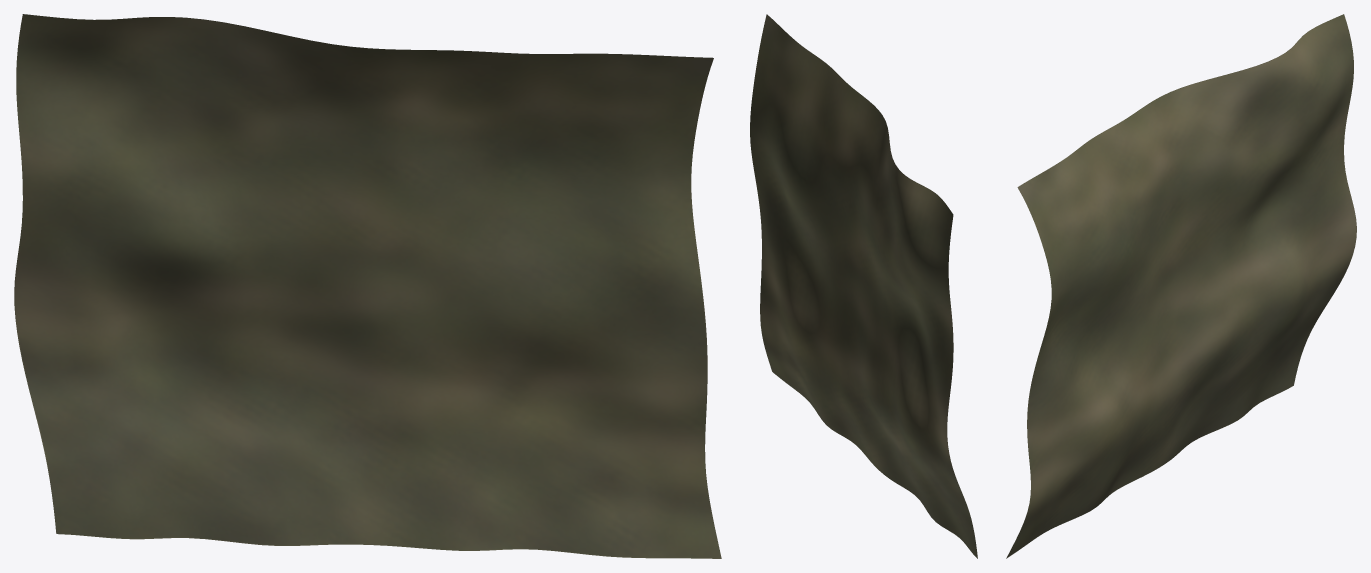
File: ground_mid_07_02.obj
The picture shows the model from 3 angles, left to right: view 1: azimuth 30°, elevation 25°; view 2: azimuth 150°, elevation 25°; view 3: azimuth 270°, elevation 25°; orthographic projection. The views are drawn at different scales.
Visible parts, largest first — view 1: ground_mid_07_02; view 2: ground_mid_07_02; view 3: ground_mid_07_02.
Boxes of the visible parts, x1=… form: ground_mid_07_02: x1=14, y1=14, x2=721, y2=558; ground_mid_07_02: x1=750, y1=14, x2=977, y2=558; ground_mid_07_02: x1=1006, y1=14, x2=1356, y2=558.
Bounding box in the file's own units: 200 × 200 × 171.
1 material, 1 textured.
